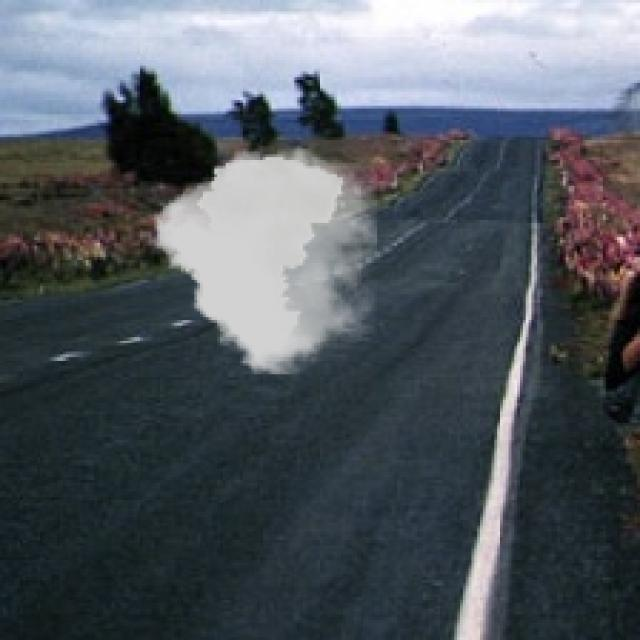smoke: (154, 146, 377, 374)
